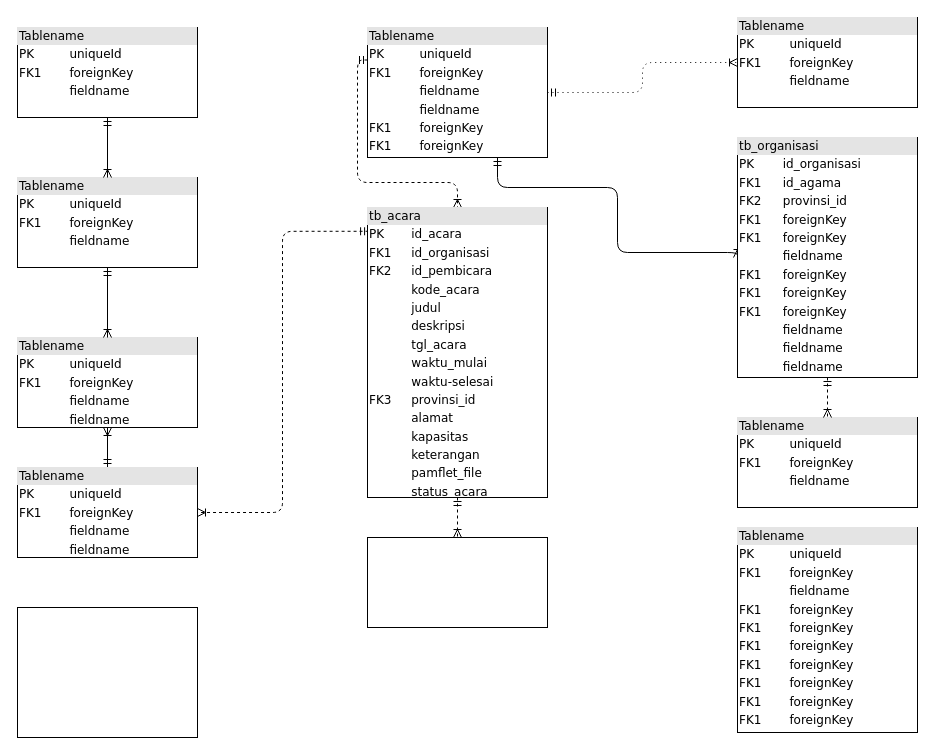
Image size: 935x755. Some labels were removed from this diagram. Here are the shapes that lost their labels. From the top down, the centre of each, then its label:
At (457,582): "tb_acara_detail PK id_acara_detail FK1 id_acara joined_date jumlah_bayar".
At (107,672): "Tablename PK uniqueId FK1 foreignKey fieldname fieldname fieldname fieldname".
